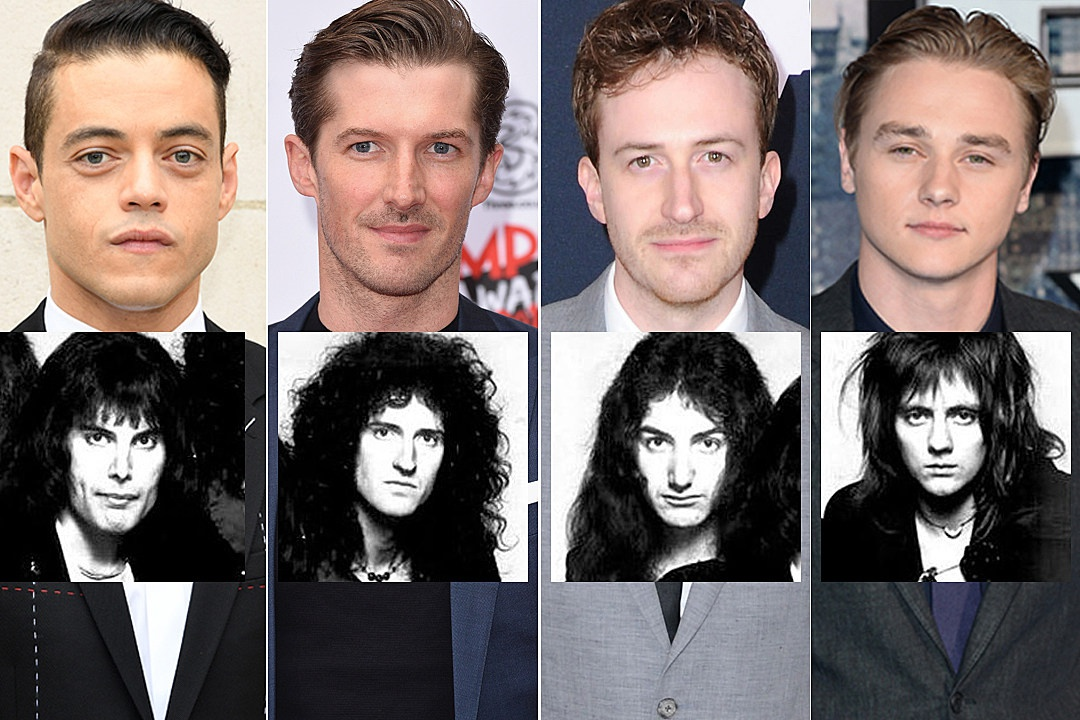bad: (840, 98, 1026, 284), (56, 98, 242, 284), (304, 98, 489, 284), (593, 118, 778, 304), (67, 414, 175, 522), (354, 402, 462, 510), (629, 414, 736, 522), (892, 395, 982, 484)
